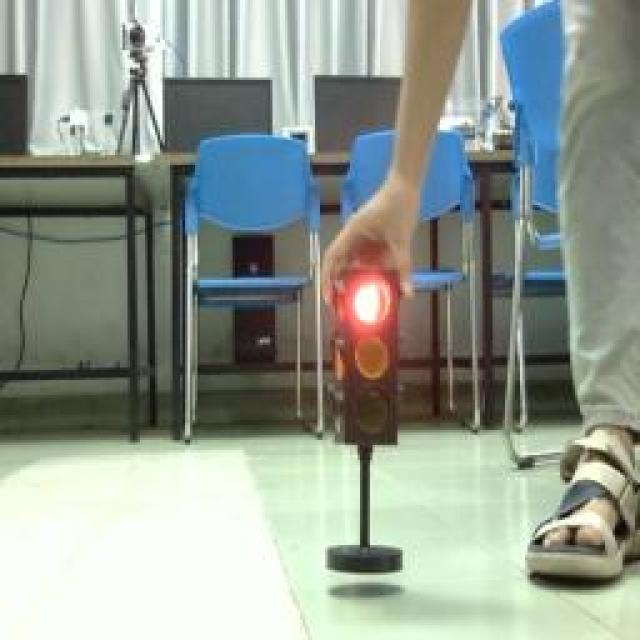-: (354, 276, 396, 328)
